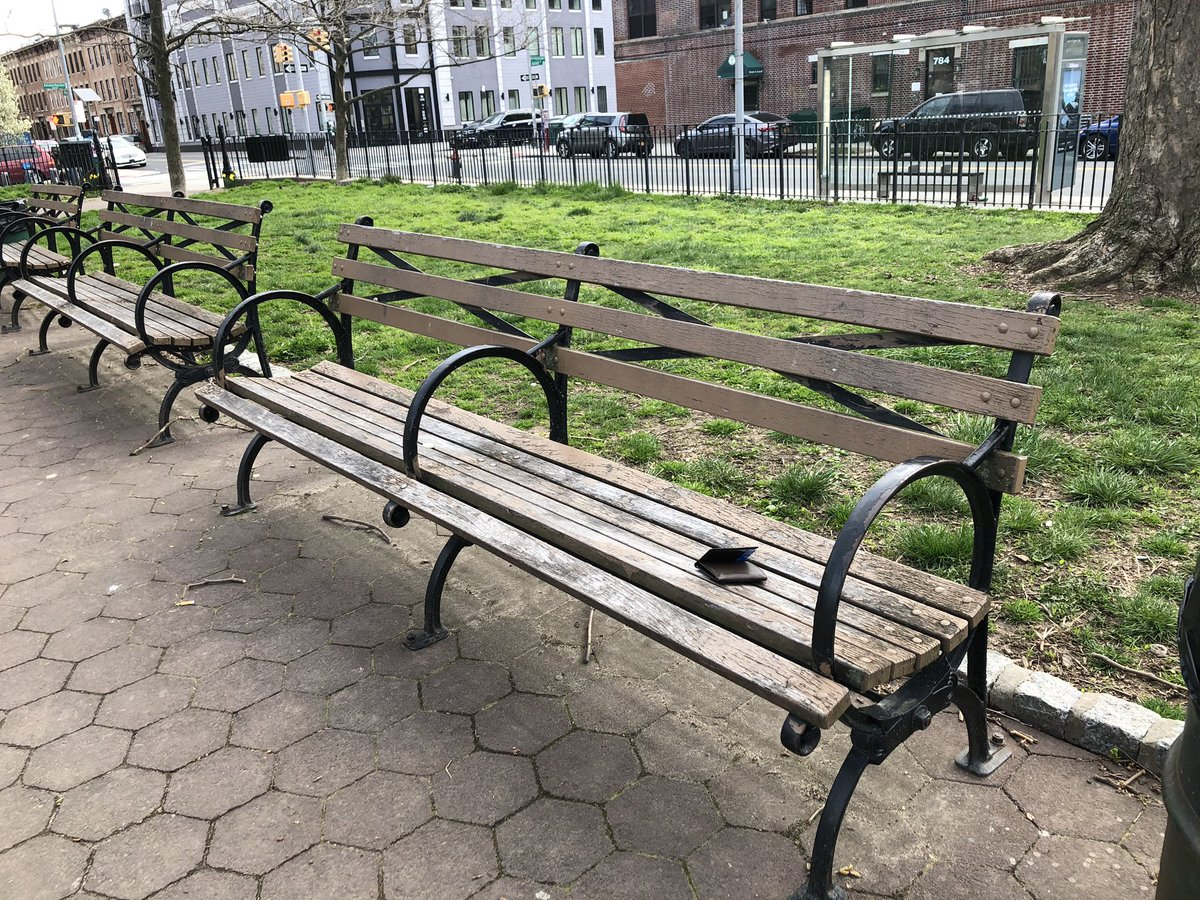beach: (28, 185, 291, 409), (1, 176, 91, 278)
bench: (248, 222, 1106, 896)
building: (595, 1, 1200, 125), (138, 1, 609, 128), (1, 18, 133, 137)
car: (873, 88, 1043, 163), (547, 107, 661, 165), (670, 105, 784, 163)
